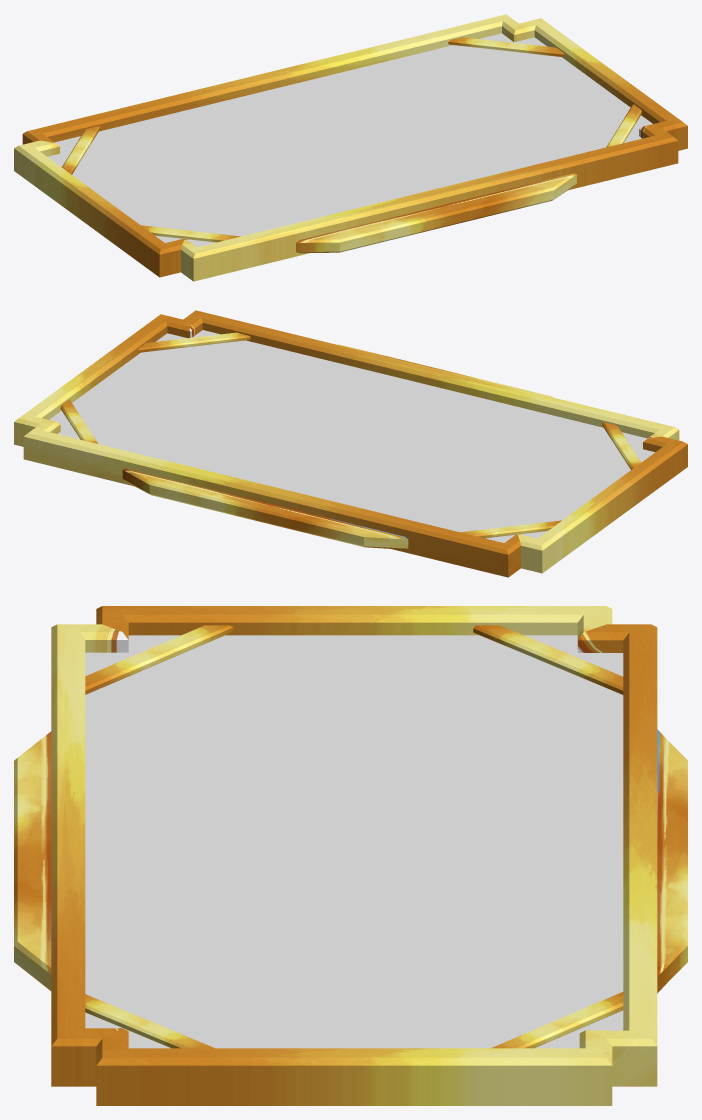
File: Billboard_C.fbx
3 views of the same model, one above another, from view 1: azimuth 30°, elevation 25°; view 2: azimuth 150°, elevation 25°; view 3: azimuth 270°, elevation 25° (orthographic). The views are drawn at different scales.
Parts seen in each view (by area): view 1: Billboard_B; view 2: Billboard_B; view 3: Billboard_B.
Boxes of the visible parts, bbox=[...] form: Billboard_B: bbox=[14, 14, 687, 281]; Billboard_B: bbox=[14, 310, 687, 577]; Billboard_B: bbox=[14, 606, 687, 1105].
Bounding box in the file's own units: 1260 × 58.73 × 786.
